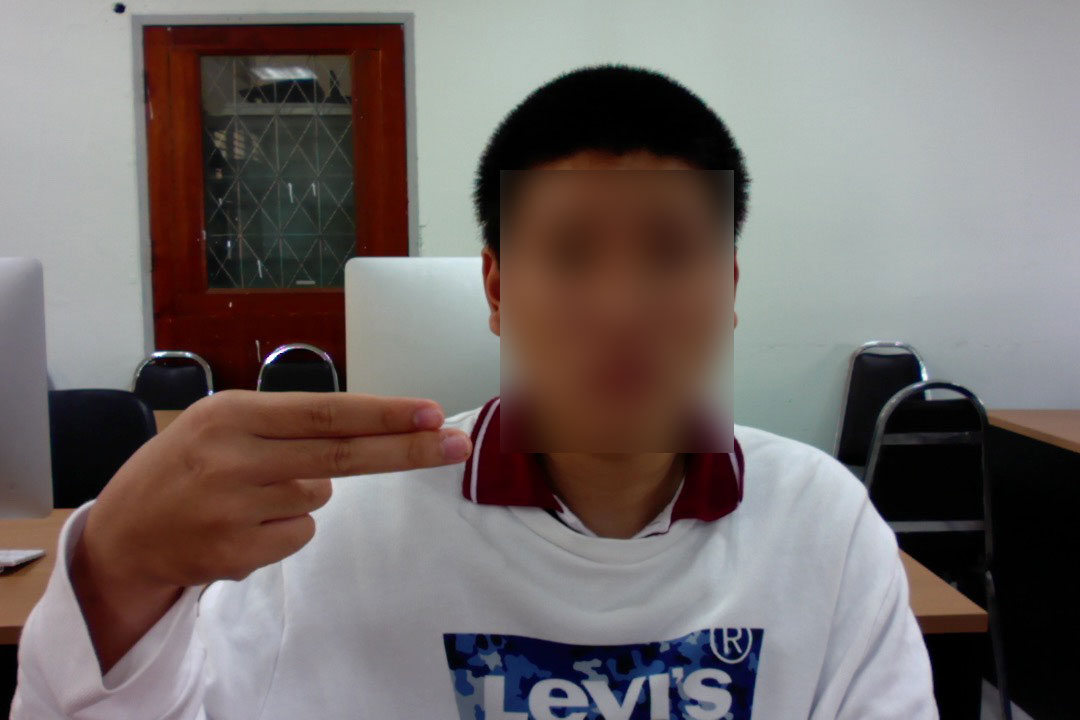hor: (90, 381, 482, 590)
